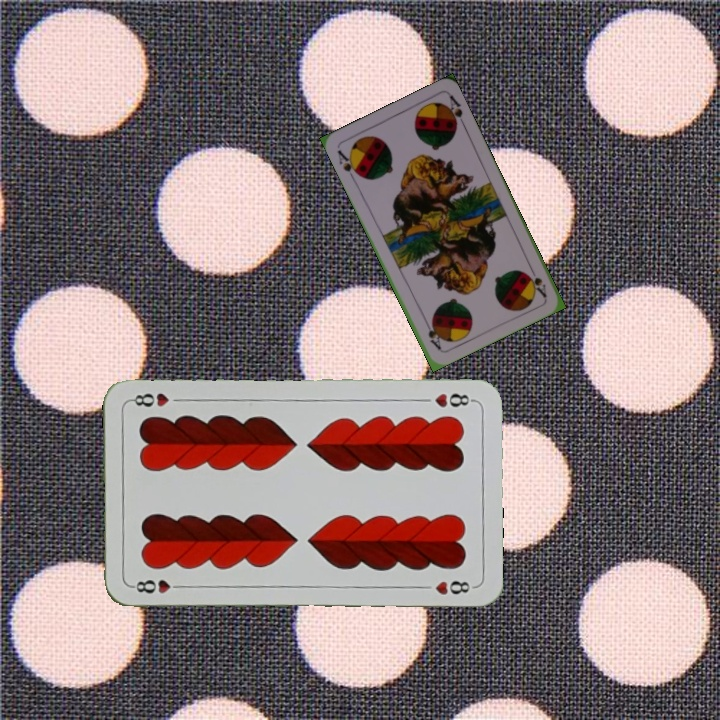H8: (128, 576, 187, 596), (430, 389, 476, 410)
SA: (333, 146, 363, 183), (523, 262, 549, 300)
